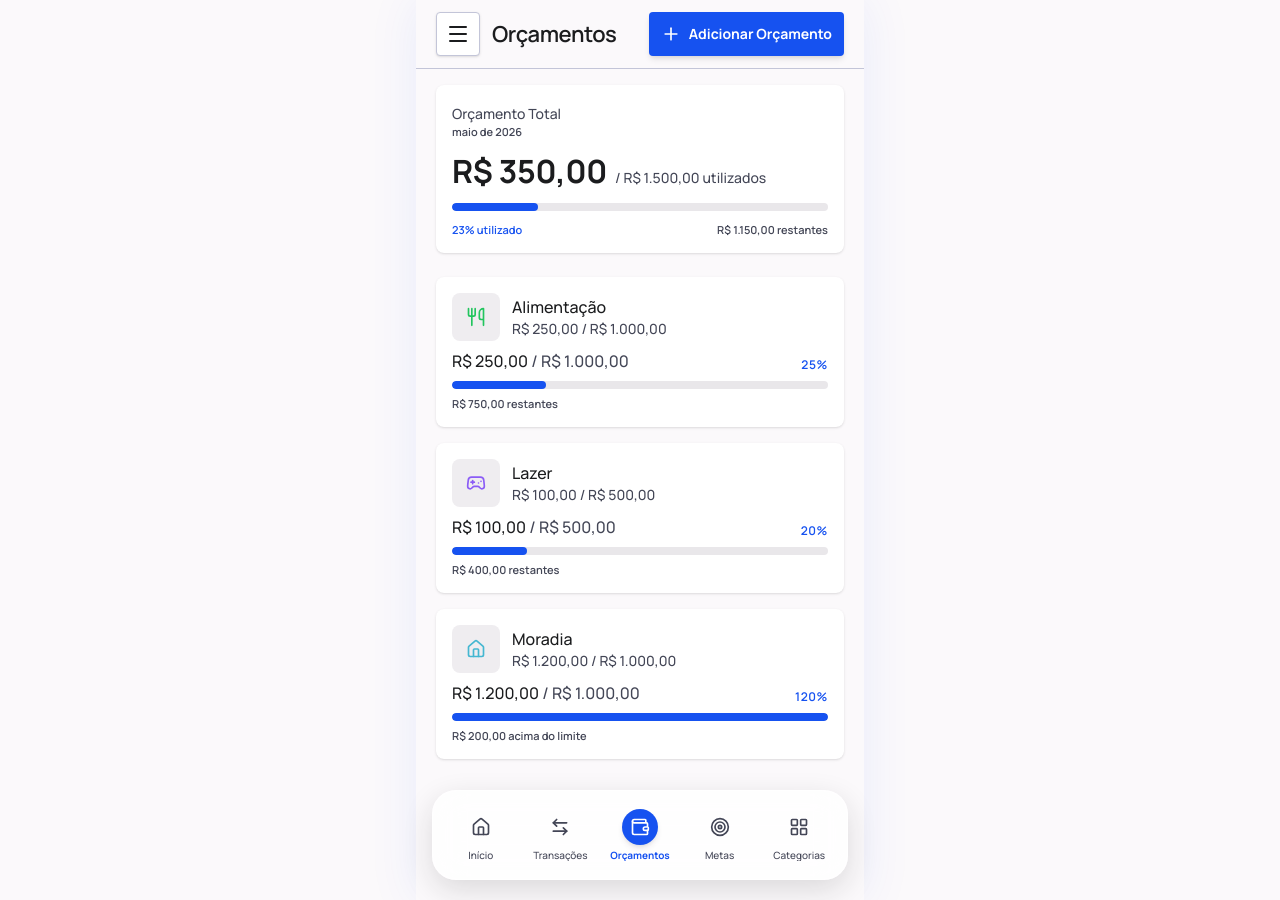
Test: OrcamentosClient › abre modal ao clicar em Adicionar Orçamento
The image size is (1280, 900).
Step 1. Click the button "Adicionar Orçamento" → [746, 34], box [649, 12, 844, 56]
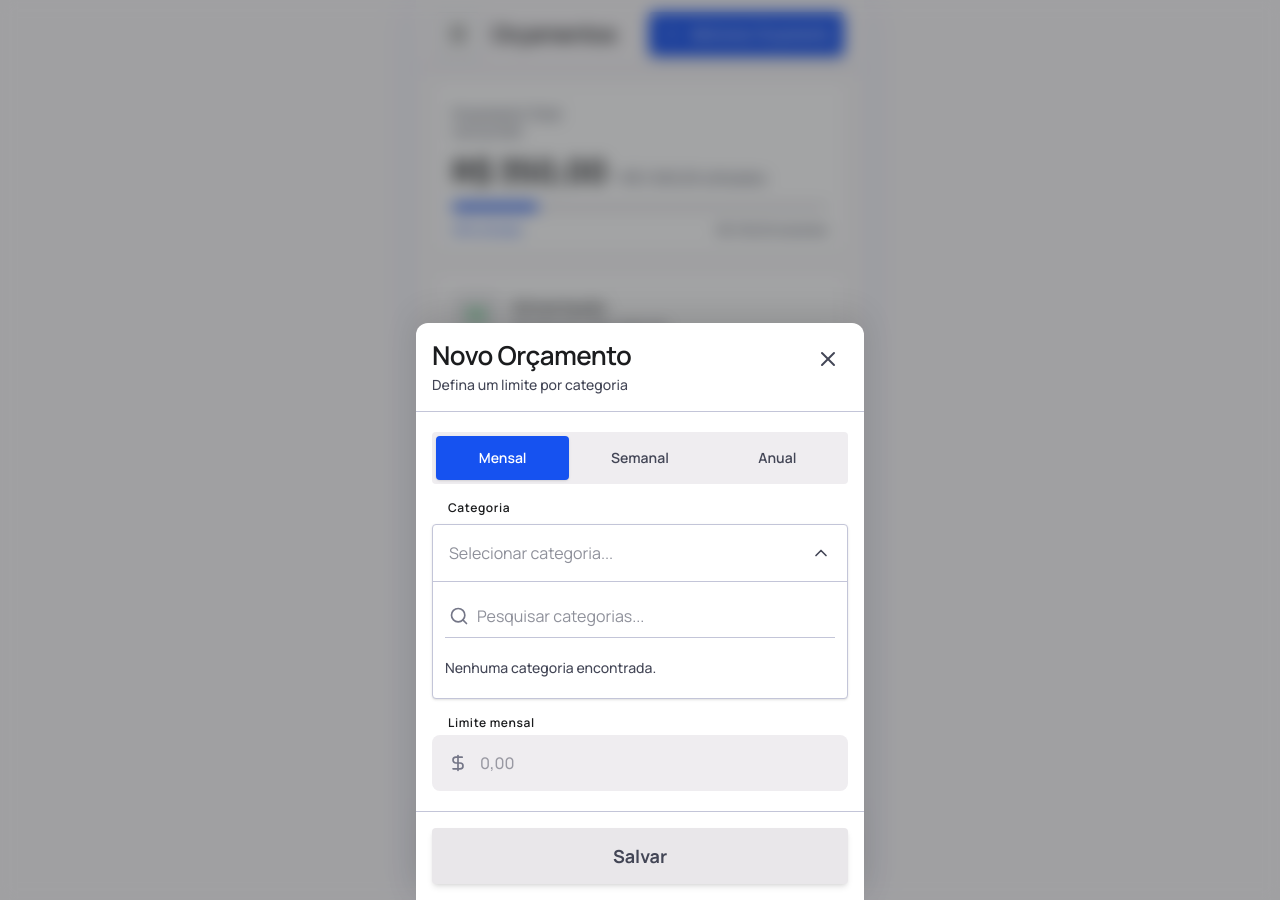
Now the heading "Novo Orçamento" is shown, box [432, 339, 632, 371]
